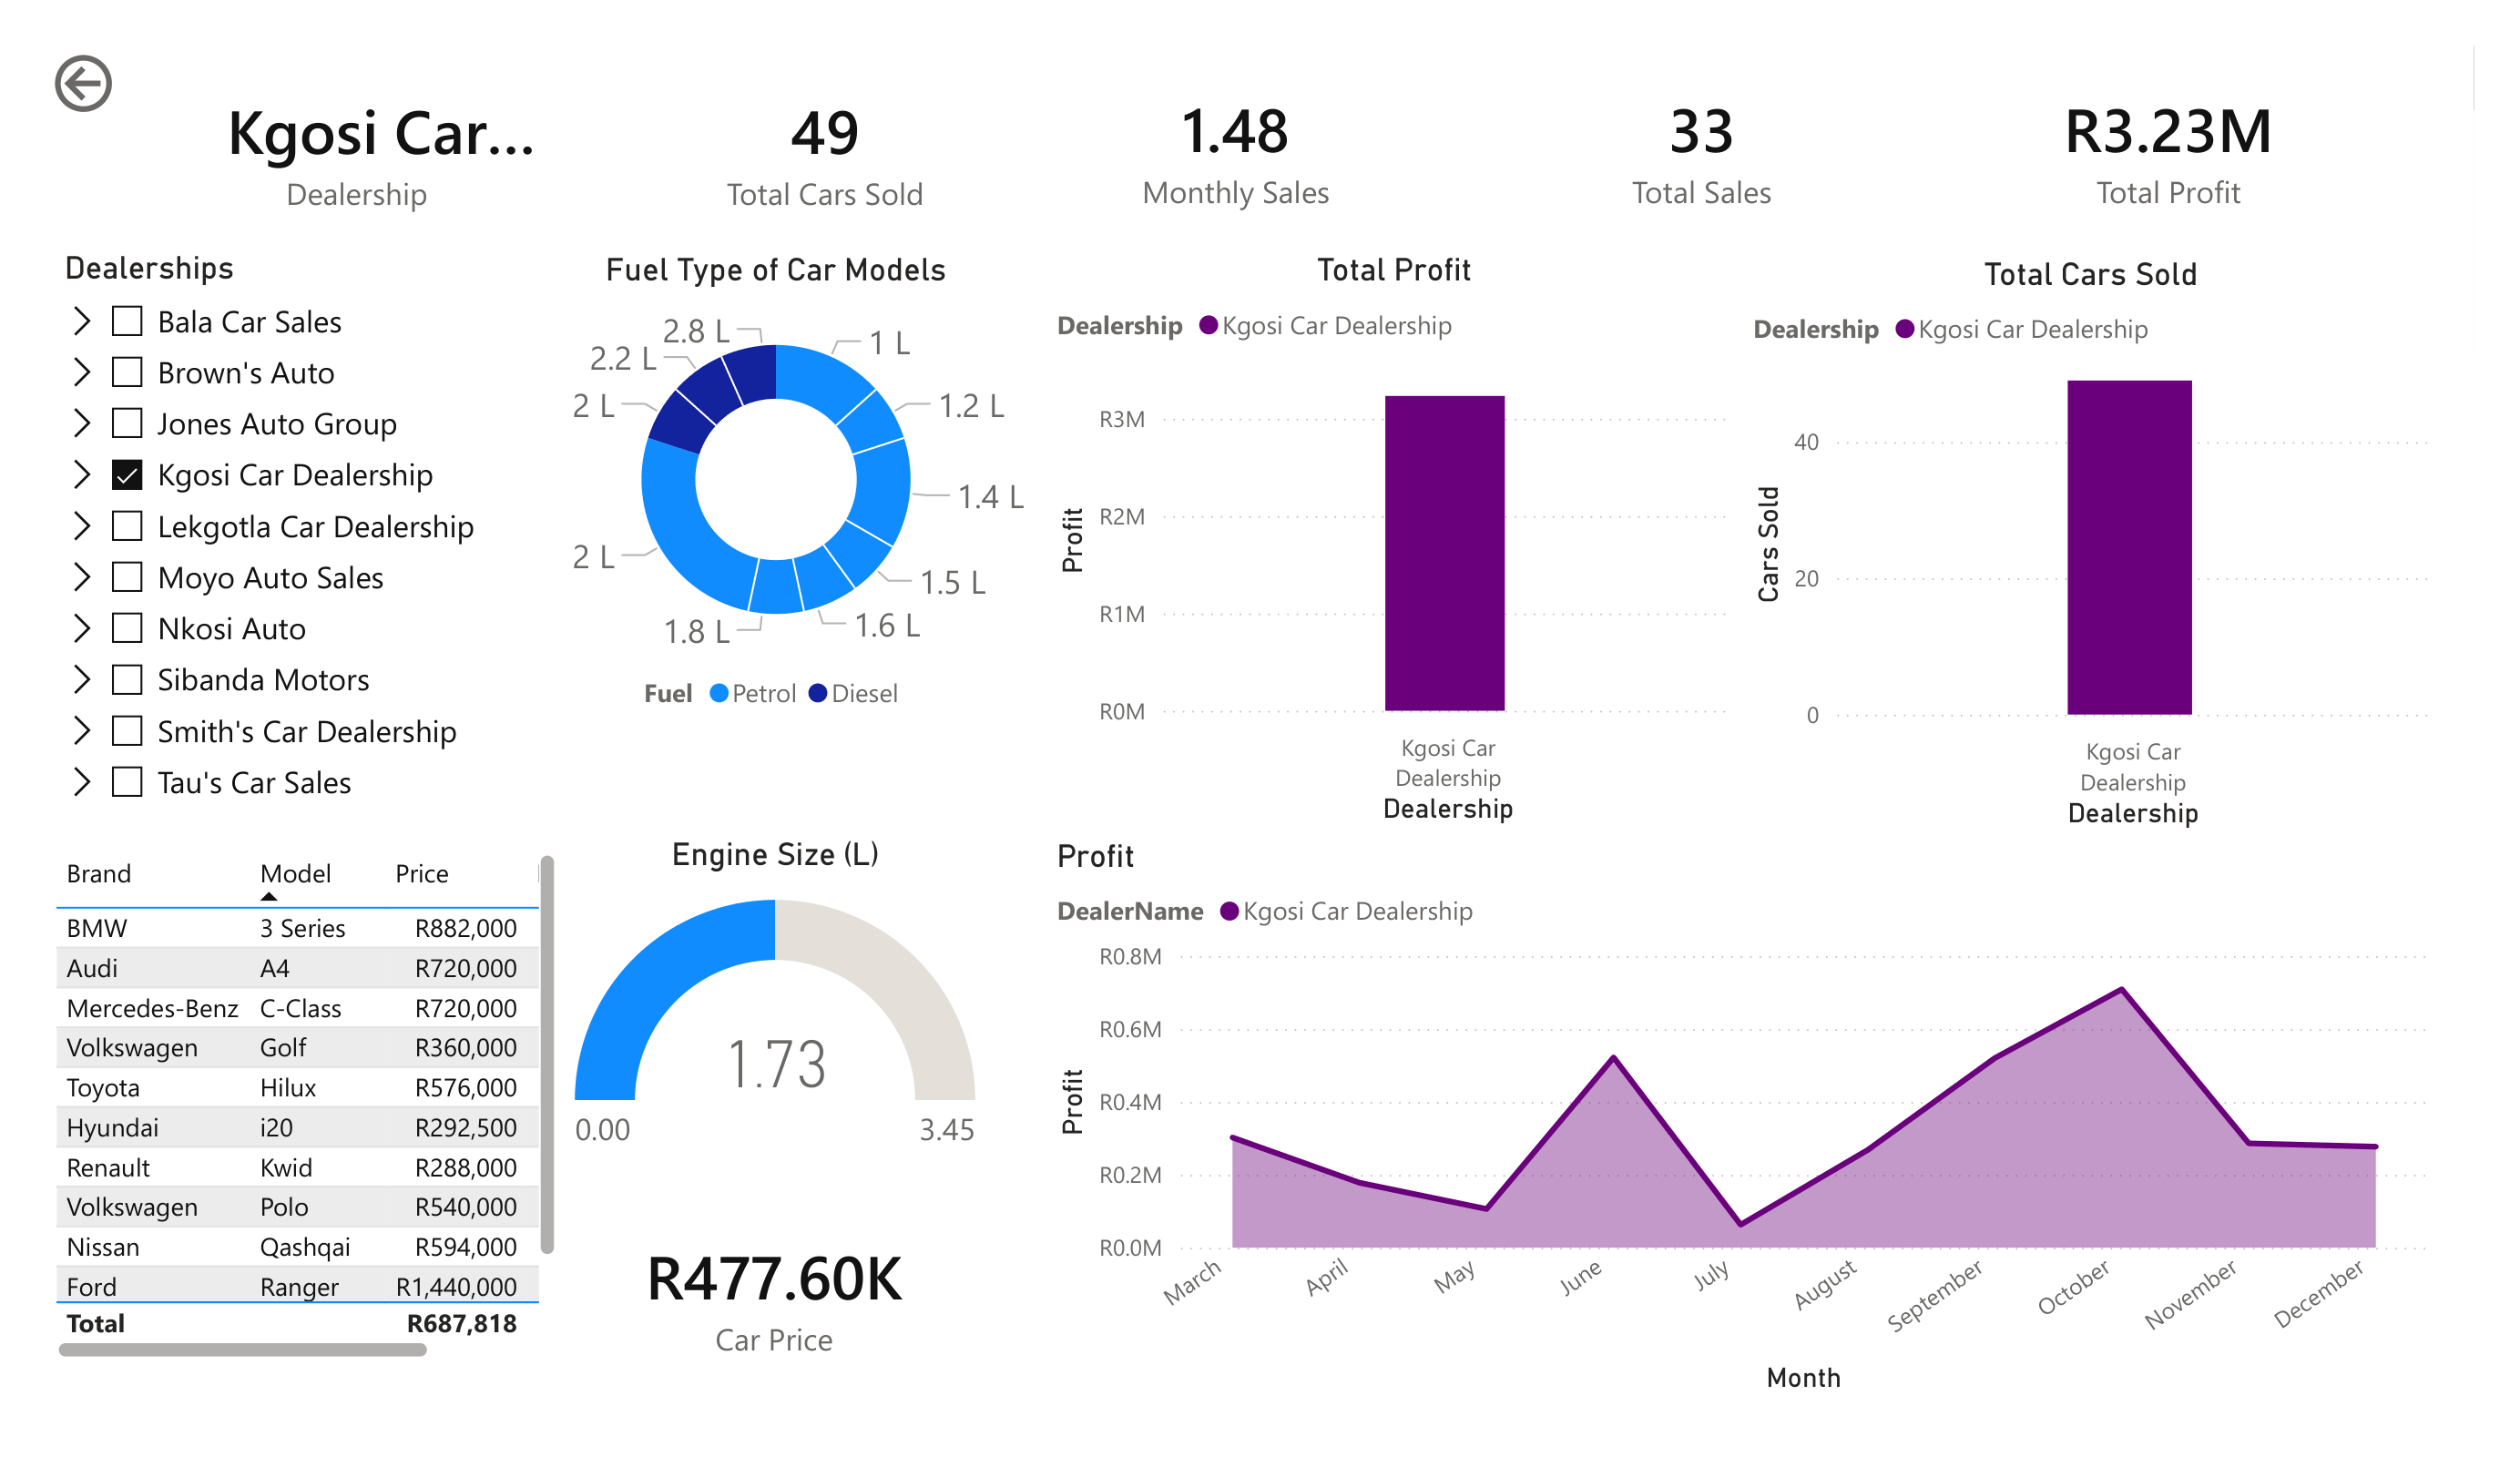

What the dashboard file says about the page in this screenshot:
{"tool":"powerbi","page":{"name":"Page 1","canvas":[1280,720],"ordinal":0},"visuals":[{"type":"cardVisual","fields":{"Data":["CountNonNull(Sales.Quantity)"]},"box":[801.4,0,144.1,109.8],"z":0},{"type":"cardVisual","fields":{"Data":["Sum(Sales.Quantity)"]},"box":[327.7,0,166.3,110.1],"z":1000},{"type":"cardVisual","fields":{"Data":["Sum(Sales.Total Profit (ZAR))"]},"box":[1012.7,0,212.7,109.8],"z":2000},{"type":"tableEx","fields":{"Values":["Models.Brand","Models.Model","Models.Price (ZAR)"]},"box":[9.6,362.3,262.1,355.4],"z":3000},{"type":"cardVisual","fields":{"Data":["Avg(Sales.Quantity)"]},"box":[548.9,0,157.8,109.8],"z":4000},{"type":"cardVisual","fields":{"Data":["Min(Dealers.DealerName)"]},"box":[23.2,0,265.4,110.1],"z":5000},{"type":"donutChart","title":"Fuel Type of Car Models","fields":{"Category":["Models.Fuel"],"Y":["CountNonNull(Models.Fuel)"],"Series":["Models.Engine Sizes (L)"]},"box":[242.1,107.6,286.1,251.9],"z":6000},{"type":"tableEx","fields":{"Values":["Dealers.DealerID","Dealers.DealerName"]},"box":[9.8,99,232.3,249.5],"z":7000},{"type":"gauge","fields":{"Y":["Avg(Models.EngineSize (L))"]},"box":[273.9,414.5,221.3,187.1],"z":8000},{"type":"columnChart","title":"Total Profit","fields":{"Category":["Dealers.DealerName","Sales.Date.Variation.Date Hierarchy.Month","Dealers.City","Models.Brand","Models.Model"],"Y":["Sum(Sales.Total Profit (ZAR))"],"Series":["Dealers.DealerName"]},"box":[528.3,107.6,365.6,306.9],"z":9000},{"type":"columnChart","title":"Total Cars Sold","fields":{"Category":["Dealers.DealerName","Dealers.City","Models.Segment","Models.Model"],"Y":["Sum(Sales.Quantity)"],"Series":["Dealers.DealerName"]},"box":[894.7,109.8,366.4,307.4],"z":10000},{"type":"actionButton","box":[0,0,100,40],"z":11000},{"type":"lineChart","title":"Monthly Profit (ZAR)","fields":{"Category":["Sales.Date.Variation.Date Hierarchy.Month","Dealers.Country","Dealers.City"],"Series":["Dealers.DealerName"],"Y":["Avg(Sales.Total Profit (ZAR))"]},"box":[528.3,417.2,731.4,303.3],"z":12000},{"type":"cardVisual","fields":{"Data":["Avg(Models.Price (ZAR))"]},"box":[271.5,584.5,216.4,135.7],"z":13000}]}

Visuals, with their boxes on the page's 1280x720 design canvas (x1, y1, x2, y2). These are canvas units, not pixel positions in the 2520x1457 screenshot, which may show the page scaled, cropped or inside an application window:
cardVisual - CountNonNull(Sales.Quantity): locate(801, 0, 946, 110)
cardVisual - Sum(Sales.Quantity): locate(328, 0, 494, 110)
cardVisual - Sum(Sales.Total Profit (ZAR)): locate(1013, 0, 1225, 110)
tableEx - Models.Brand x Models.Model: locate(10, 362, 272, 718)
cardVisual - Avg(Sales.Quantity): locate(549, 0, 707, 110)
cardVisual - Min(Dealers.DealerName): locate(23, 0, 289, 110)
"Fuel Type of Car Models" donutChart: locate(242, 108, 528, 360)
tableEx - Dealers.DealerID x Dealers.DealerName: locate(10, 99, 242, 348)
gauge - Avg(Models.EngineSize (L)): locate(274, 414, 495, 602)
"Total Profit" columnChart: locate(528, 108, 894, 414)
"Total Cars Sold" columnChart: locate(895, 110, 1261, 417)
actionButton: locate(0, 0, 100, 40)
"Monthly Profit (ZAR)" lineChart: locate(528, 417, 1260, 720)
cardVisual - Avg(Models.Price (ZAR)): locate(272, 584, 488, 720)
